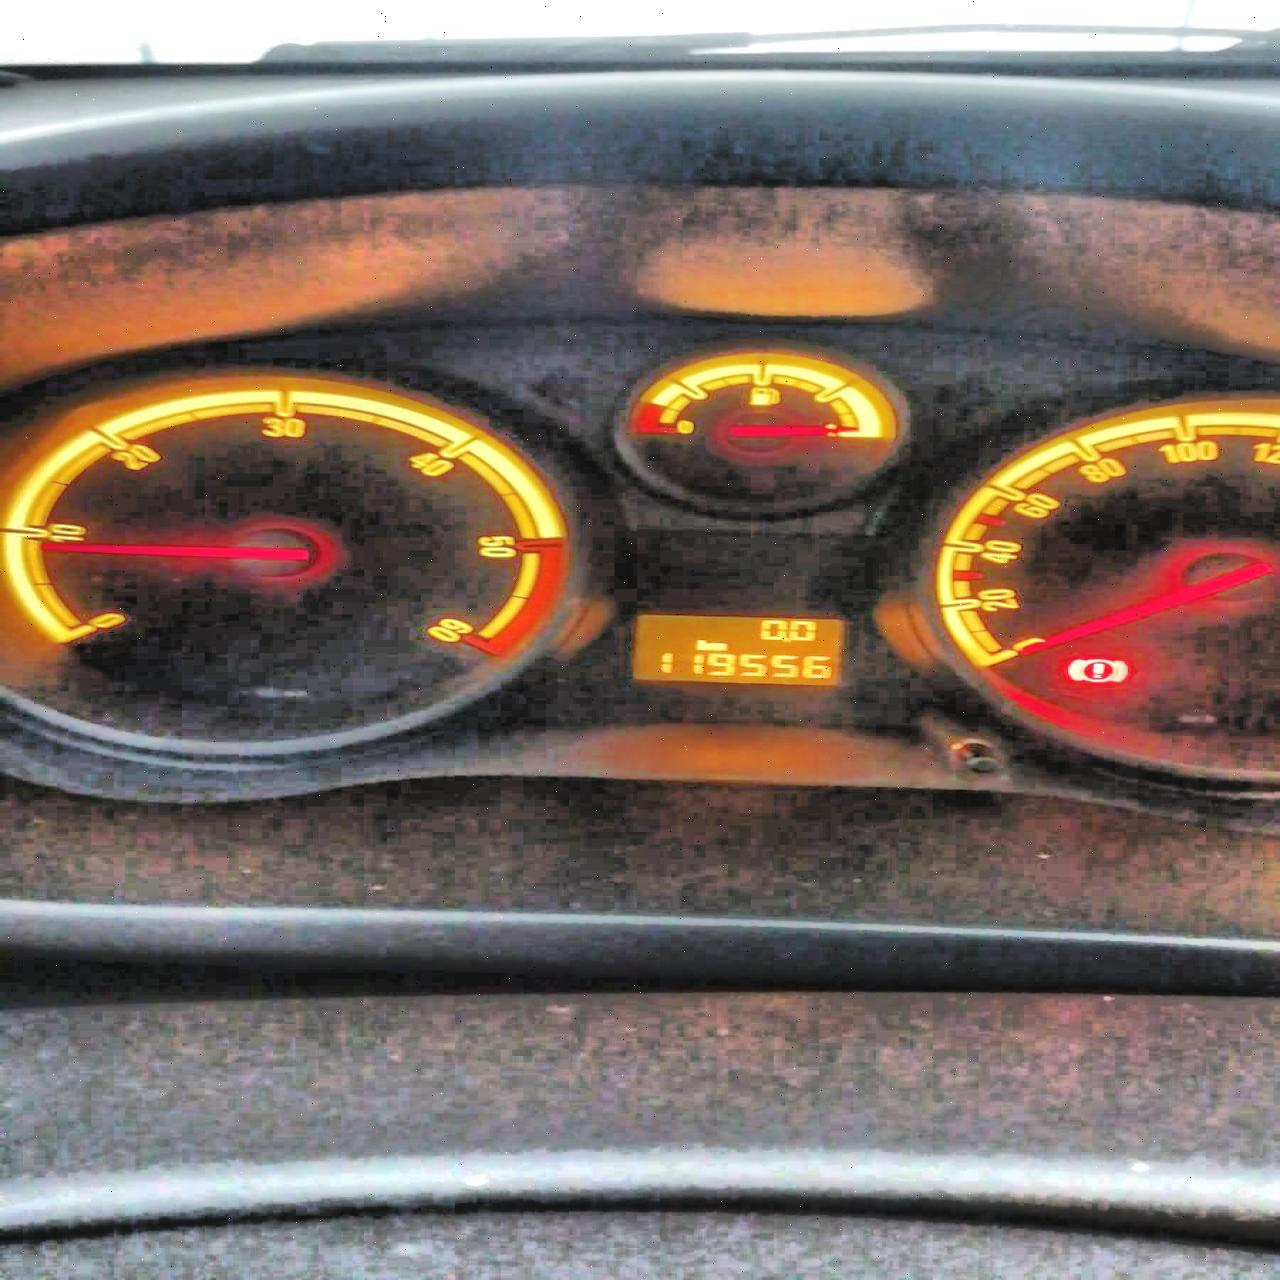-: (781, 636, 791, 641)
0: (787, 619, 815, 641), (760, 619, 787, 639)
1: (659, 652, 673, 673), (690, 653, 704, 673)
5: (736, 653, 767, 678), (769, 654, 799, 676)
6: (799, 655, 831, 679)
9: (706, 652, 735, 675)
odometer: (628, 612, 844, 686)
